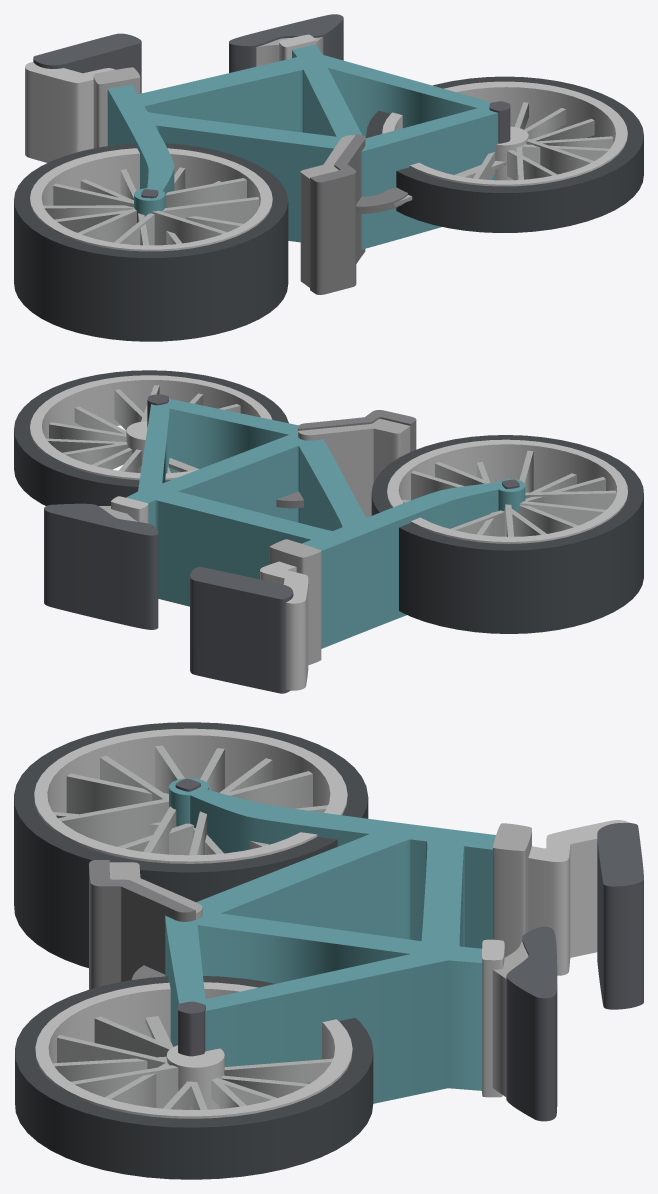
Rendered from emoji_u1f6b2.glb.
The picture shows the model from 3 angles, top to bottom: view 1: azimuth 30°, elevation 25°; view 2: azimuth 150°, elevation 25°; view 3: azimuth 270°, elevation 25°; orthographic projection. The views are drawn at different scales.
Parts seen in each view (by area): view 1: emoji_u1f6b2; view 2: emoji_u1f6b2; view 3: emoji_u1f6b2.
Boxes of the visible parts, box(x1,y1,x2,y2) form: emoji_u1f6b2: box(14, 14, 643, 341); emoji_u1f6b2: box(14, 370, 643, 693); emoji_u1f6b2: box(14, 722, 643, 1179).
Size of the model in its own units: 0.0342 by 0.0062 by 0.0241.
